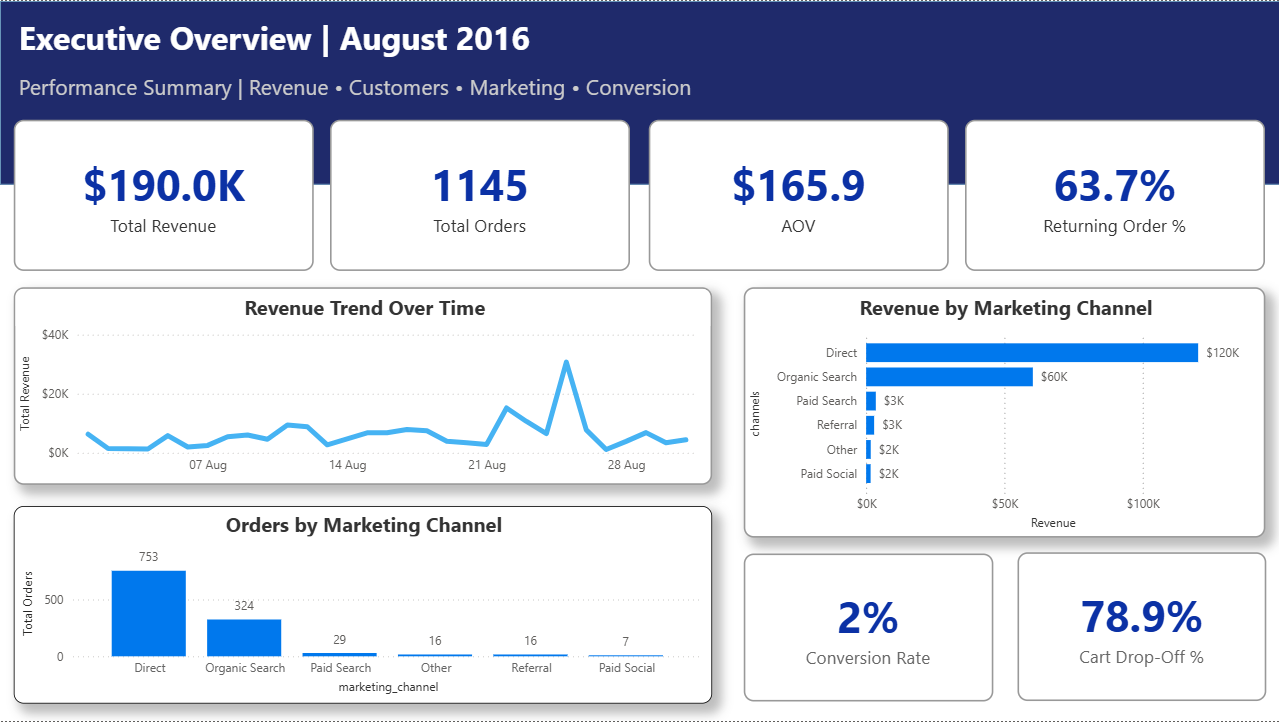

The dashboard page shown, as its layout file describes it:
{"tool":"powerbi","page":{"name":"Executive Overview","canvas":[1280,720],"ordinal":0},"visuals":[{"type":"shape","box":[0,0,1280,183.8],"z":0},{"type":"card","fields":{"Values":["orders_clean.Total Revenue"]},"box":[13.8,118.8,300,151.2],"z":1000},{"type":"card","fields":{"Values":["orders_clean.Total Orders"]},"box":[330,118.8,300,151.2],"z":2000},{"type":"card","fields":{"Values":["orders_clean.AOV"]},"box":[648.8,118.8,300,151.2],"z":3000},{"type":"card","fields":{"Values":["orders_clean.Returning Order %"]},"box":[965,118.8,300,151.2],"z":4000},{"type":"lineChart","title":"Revenue Trend Over Time","fields":{"Y":["orders_clean.Total Revenue"],"Category":["orders_clean.transaction_date.Variation.Date Hierarchy.Year","orders_clean.transaction_date.Variation.Date Hierarchy.Quarter","orders_clean.transaction_date.Variation.Date Hierarchy.Month","orders_clean.transaction_date.Variation.Date Hierarchy.Day"]},"box":[13.8,286.2,698.8,197.5],"z":5000},{"type":"clusteredBarChart","title":"Revenue by Marketing Channel","fields":{"Category":["orders_clean.marketing_channel"],"Y":["orders_clean.Total Revenue"]},"box":[743.8,286.2,521.2,250],"z":6000},{"type":"card","fields":{"Values":["funnel_events.Conversion Rate"]},"box":[744.2,551.9,249.4,148.1],"z":7000},{"type":"card","fields":{"Values":["funnel_events.Cart Drop-Off %"]},"box":[1017.1,551.3,249,148.7],"z":8000},{"type":"clusteredColumnChart","title":"Orders by Marketing Channel","fields":{"Category":["orders_clean.marketing_channel"],"Y":["orders_clean.Total Orders"]},"box":[13.8,505,698.8,197.5],"z":9000},{"type":"textbox","box":[13.8,10,536.2,56.2],"z":10000},{"type":"textbox","box":[13.8,66.2,698.8,42.5],"z":11000}]}

Visuals, with their boxes in screenshot pixels (x1, y1, x2, y2), scaled from the page's 1280x720 canvas onto the 1279x722 screenshot:
shape: detection(0, 0, 1278, 184)
card - orders_clean.Total Revenue: detection(14, 119, 314, 271)
card - orders_clean.Total Orders: detection(330, 119, 630, 271)
card - orders_clean.AOV: detection(648, 119, 948, 271)
card - orders_clean.Returning Order %: detection(964, 119, 1264, 271)
"Revenue Trend Over Time" lineChart: detection(14, 287, 712, 485)
"Revenue by Marketing Channel" clusteredBarChart: detection(743, 287, 1264, 538)
card - funnel_events.Conversion Rate: detection(744, 553, 993, 702)
card - funnel_events.Cart Drop-Off %: detection(1016, 553, 1265, 702)
"Orders by Marketing Channel" clusteredColumnChart: detection(14, 506, 712, 704)
textbox: detection(14, 10, 550, 66)
textbox: detection(14, 66, 712, 109)
